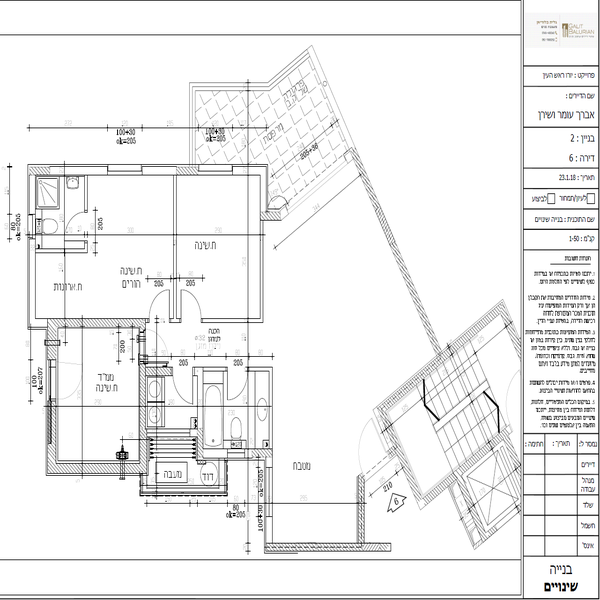door: (144, 283, 176, 324), (177, 287, 207, 324), (169, 365, 197, 404), (225, 364, 248, 401), (64, 214, 91, 239)
room: (28, 168, 177, 327), (44, 319, 147, 475), (172, 166, 266, 324), (197, 367, 272, 462)
wall: (48, 463, 147, 476), (137, 362, 147, 470), (49, 318, 146, 328), (27, 238, 37, 330), (267, 544, 391, 551), (47, 401, 57, 472), (27, 167, 108, 175), (235, 164, 267, 178), (176, 164, 197, 174)
window: (111, 163, 143, 179), (264, 467, 272, 518), (201, 164, 231, 175), (226, 449, 246, 460), (27, 215, 35, 234)
